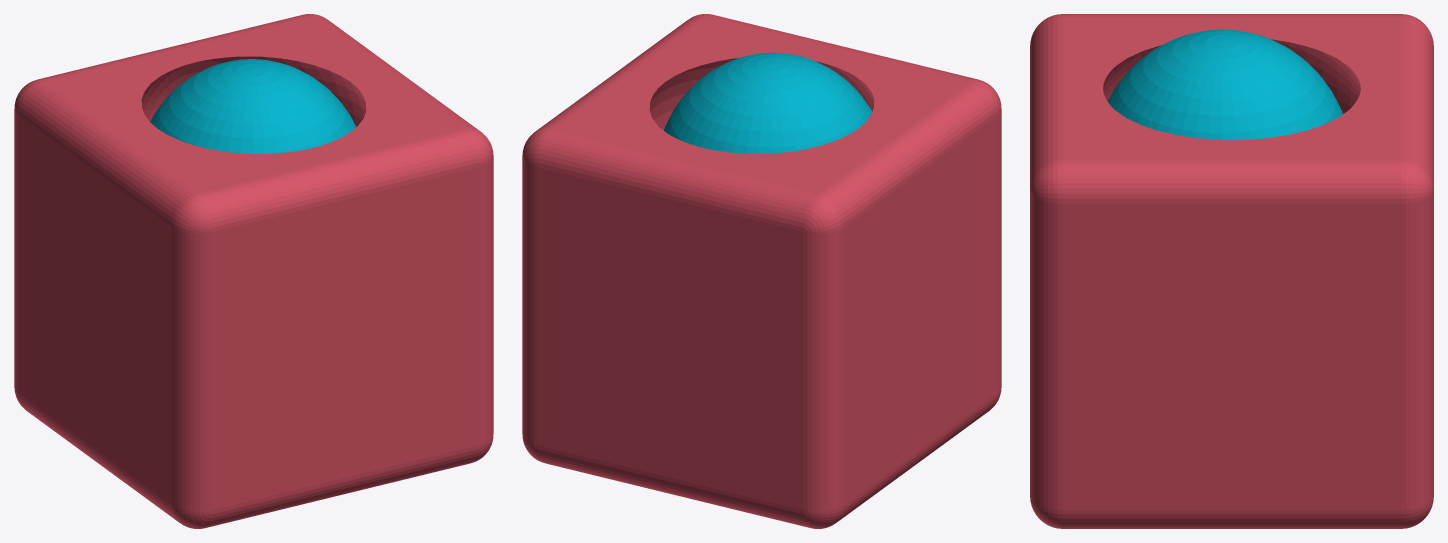
The model's file is Shiny Duup.glb.
3 views of the same model, side by side, from view 1: azimuth 30°, elevation 25°; view 2: azimuth 150°, elevation 25°; view 3: azimuth 270°, elevation 25° (orthographic). The views are drawn at different scales.
Visible parts, largest first — view 1: Mesh_Mesh_head_geo.001_lambert2SG.001; view 2: Mesh_Mesh_head_geo.001_lambert2SG.001; view 3: Mesh_Mesh_head_geo.001_lambert2SG.001.
Boxes of the visible parts, box(x1,y1,x2,y2) form: Mesh_Mesh_head_geo.001_lambert2SG.001: box(14, 14, 493, 528); Mesh_Mesh_head_geo.001_lambert2SG.001: box(522, 14, 1001, 528); Mesh_Mesh_head_geo.001_lambert2SG.001: box(1030, 14, 1433, 528).
Size of the model in its own units: 0.04 by 0.0449 by 0.04.
